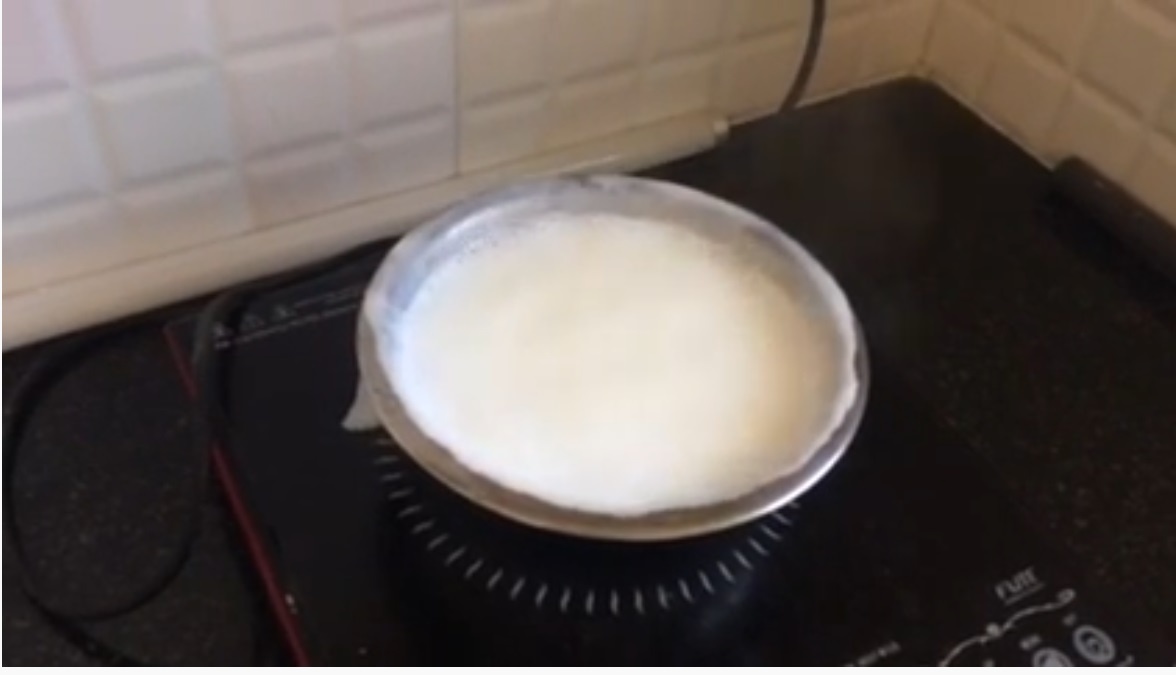Steaming: (325, 166, 924, 535)
